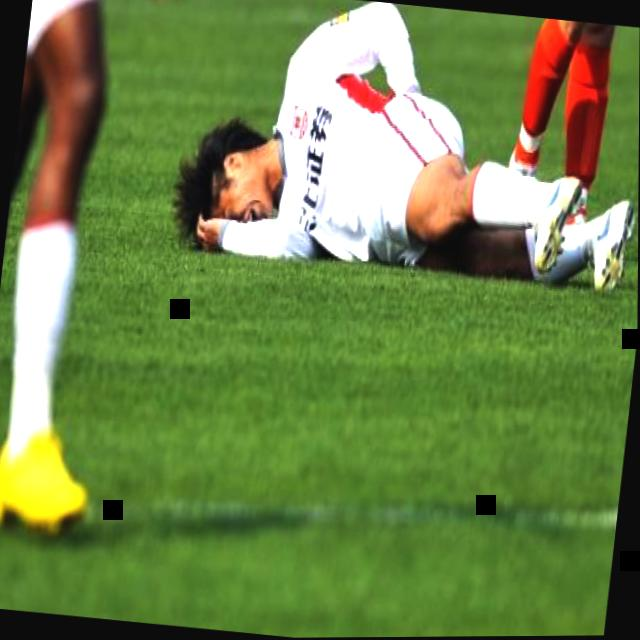Fall-Detected: (174, 0, 640, 302)
